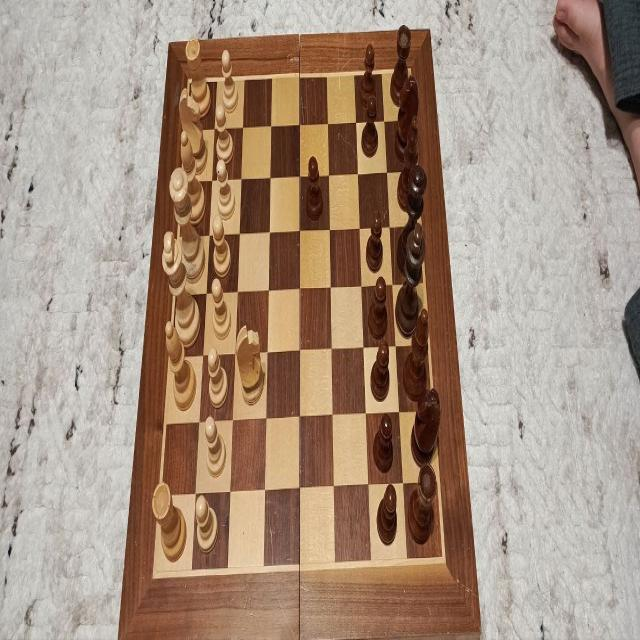black_bishop: (401, 308, 430, 403), (397, 115, 420, 214)
black_king: (394, 221, 426, 338)
black_knight: (411, 385, 441, 469), (395, 73, 419, 161)
black_pawn: (376, 480, 398, 544), (372, 414, 394, 472), (368, 276, 388, 338), (359, 42, 377, 109), (370, 342, 390, 402), (305, 156, 323, 218), (361, 96, 378, 158), (366, 213, 384, 271)
black_queen: (396, 165, 427, 278)
black_rook: (407, 464, 437, 543), (389, 22, 412, 106)
white_bishop: (164, 319, 197, 411), (180, 130, 205, 225)
white_king: (162, 229, 201, 348)
white_knight: (179, 88, 207, 176), (236, 323, 264, 407)
white_pawn: (195, 492, 218, 552), (211, 210, 231, 276), (207, 346, 228, 406), (203, 415, 224, 473), (216, 160, 235, 220), (211, 279, 230, 339), (215, 107, 233, 167), (222, 50, 238, 113)
white_queen: (169, 166, 205, 284)
white_rook: (151, 480, 186, 560), (185, 38, 211, 122)
